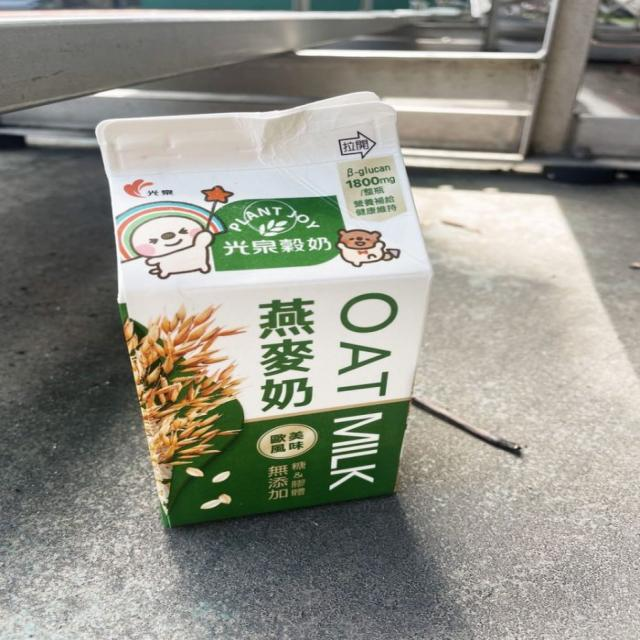cardboard: (99, 85, 433, 518)
